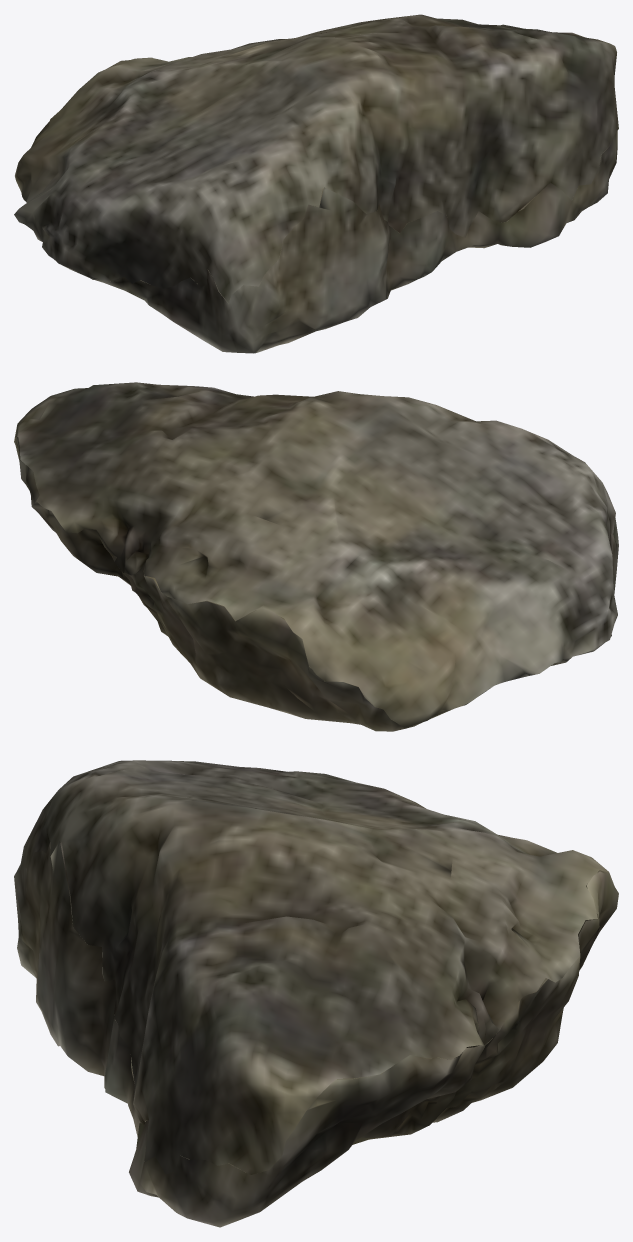
File: rock_moss_set_02_g.gltf.lod.glb
3 renders of one model, top to bottom at view 1: azimuth 30°, elevation 25°; view 2: azimuth 150°, elevation 25°; view 3: azimuth 270°, elevation 25°, orthographic. The views are drawn at different scales.
Visible parts, largest first — view 1: rock_moss_set_02_rock10; view 2: rock_moss_set_02_rock10; view 3: rock_moss_set_02_rock10.
Part boxes in pixels (x1,y1,x2,y2): rock_moss_set_02_rock10: [14, 14, 618, 353]; rock_moss_set_02_rock10: [14, 382, 618, 731]; rock_moss_set_02_rock10: [14, 760, 618, 1227].
Size of the model in its own units: 2.2 by 0.7675 by 1.55.
1 material, 1 textured.
